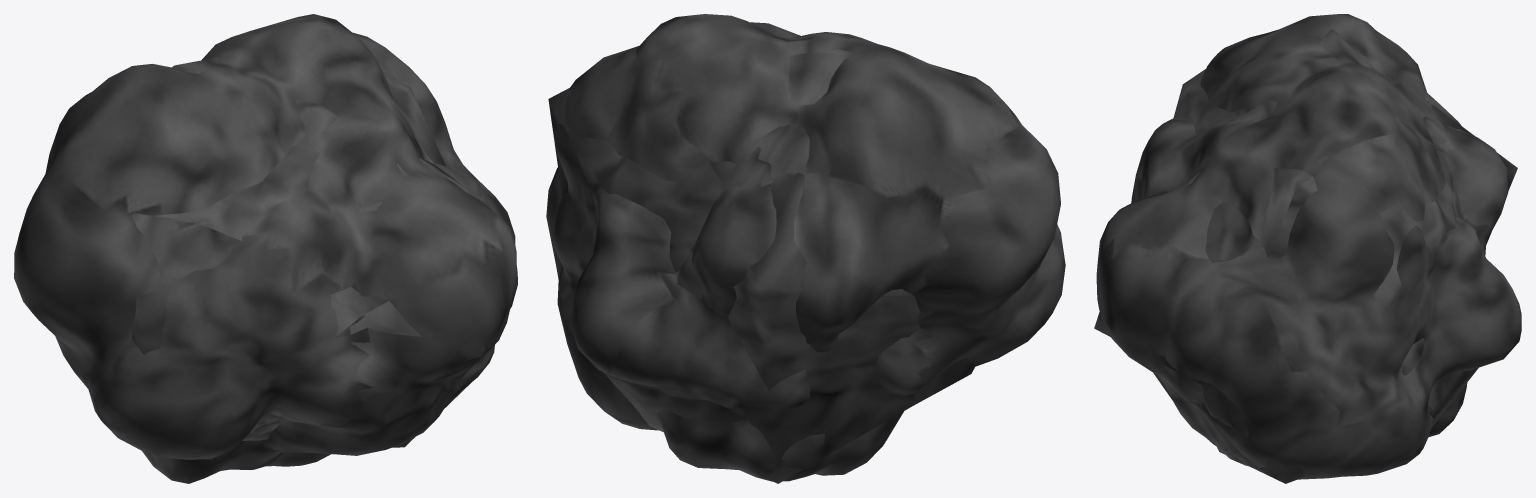
File: spaceRock.glb
3 renders of one model, left to right at view 1: azimuth 30°, elevation 25°; view 2: azimuth 150°, elevation 25°; view 3: azimuth 270°, elevation 25°, orthographic. The views are drawn at different scales.
Parts seen in each view (by area): view 1: Icosphere.001, Icosphere; view 2: Icosphere.001, Icosphere; view 3: Icosphere.001, Icosphere.
Boxes of the visible parts, x1,y1,x2,y2 form: Icosphere.001: (14, 14, 517, 483); Icosphere: (131, 57, 485, 447); Icosphere.001: (546, 14, 1065, 481); Icosphere: (548, 35, 975, 483); Icosphere.001: (1096, 14, 1521, 479); Icosphere: (1094, 29, 1517, 483).
Bounding box in the file's own units: 4.98 × 4.32 × 4.21.
Materials: 1 (1 with a texture image).
